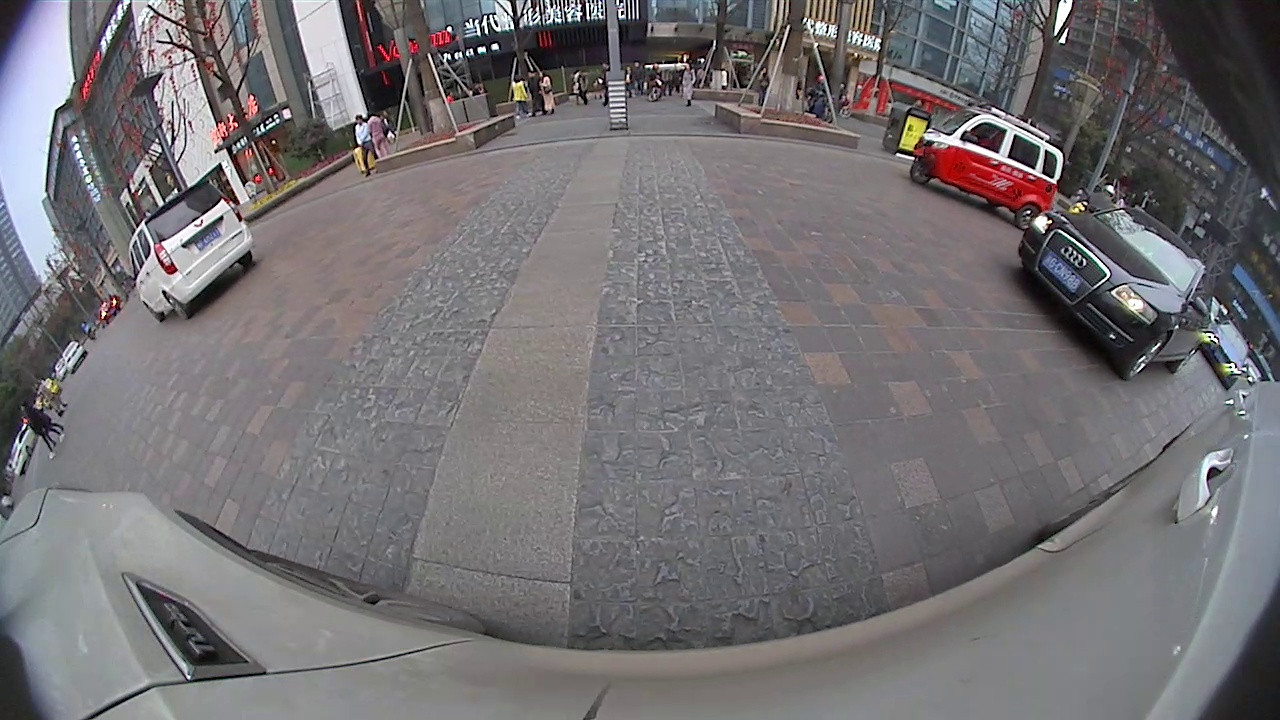car: (1016, 205, 1213, 383), (125, 175, 256, 324), (60, 342, 89, 376)
front: (1119, 331, 1173, 383), (908, 158, 934, 188)
person: (24, 401, 41, 453), (356, 115, 370, 177)
rear: (159, 291, 191, 323), (1013, 201, 1042, 233)
rider: (909, 101, 1065, 233)
